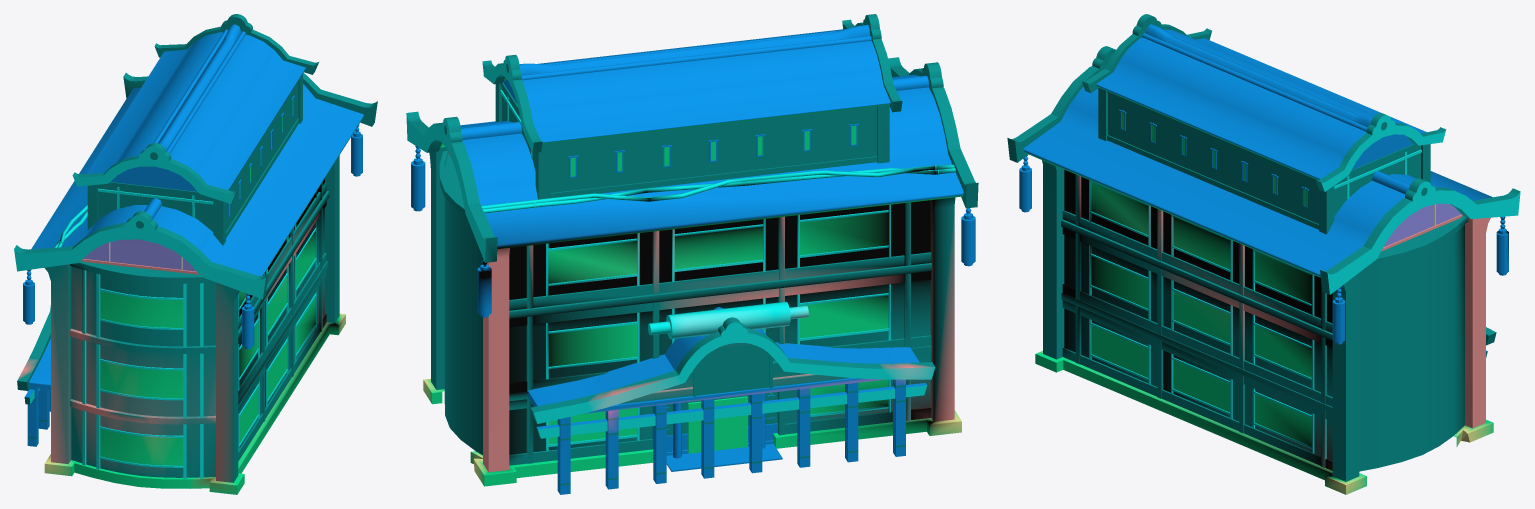
File: SM_ENV_KNVLLG03_AreaF_BuildingA.gltf
3 views of the same model, side by side, from view 1: azimuth 30°, elevation 25°; view 2: azimuth 150°, elevation 25°; view 3: azimuth 270°, elevation 25° (orthographic). The views are drawn at different scales.
Visible parts, largest first — view 1: SM_ENV_KNVLLG03_AreaF_BuildingA; view 2: SM_ENV_KNVLLG03_AreaF_BuildingA; view 3: SM_ENV_KNVLLG03_AreaF_BuildingA.
Boxes of the visible parts, x1=… form: SM_ENV_KNVLLG03_AreaF_BuildingA: x1=14, y1=14, x2=377, y2=494; SM_ENV_KNVLLG03_AreaF_BuildingA: x1=406, y1=14, x2=978, y2=494; SM_ENV_KNVLLG03_AreaF_BuildingA: x1=1007, y1=14, x2=1520, y2=494.
Bounding box in the file's own units: 37.86 × 27.12 × 37.86.
